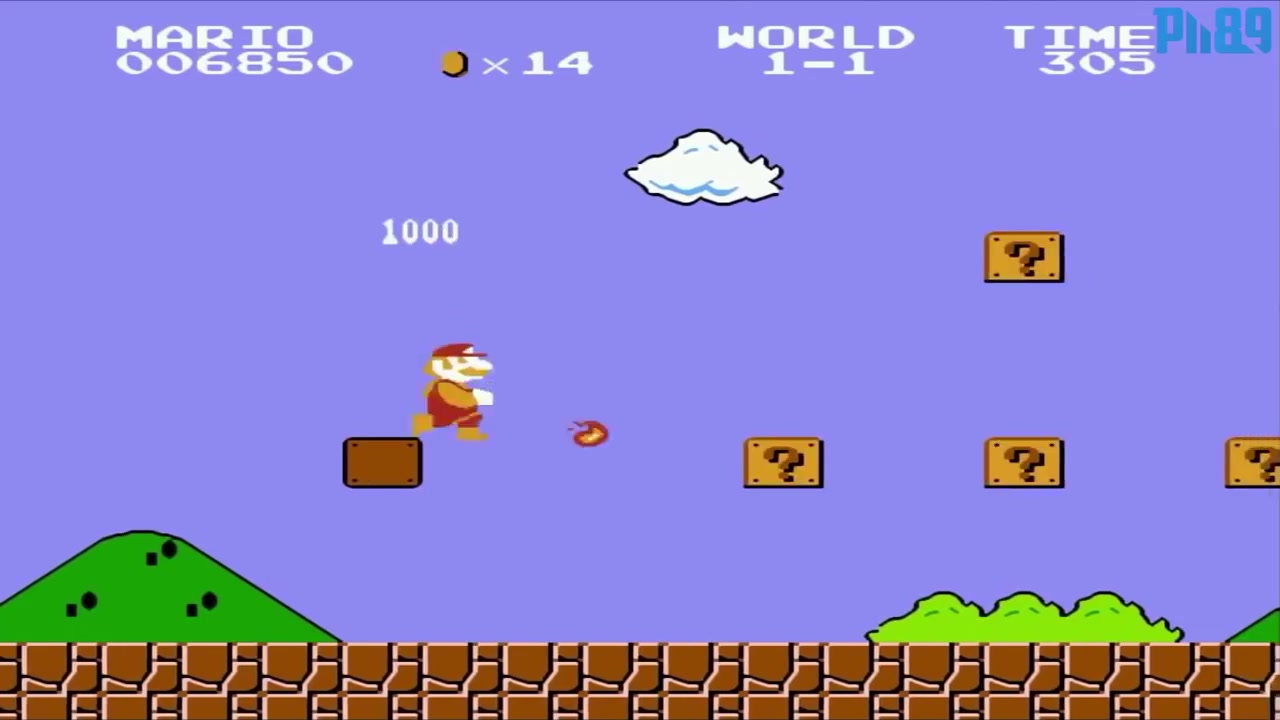mario: (399, 335, 502, 446)
